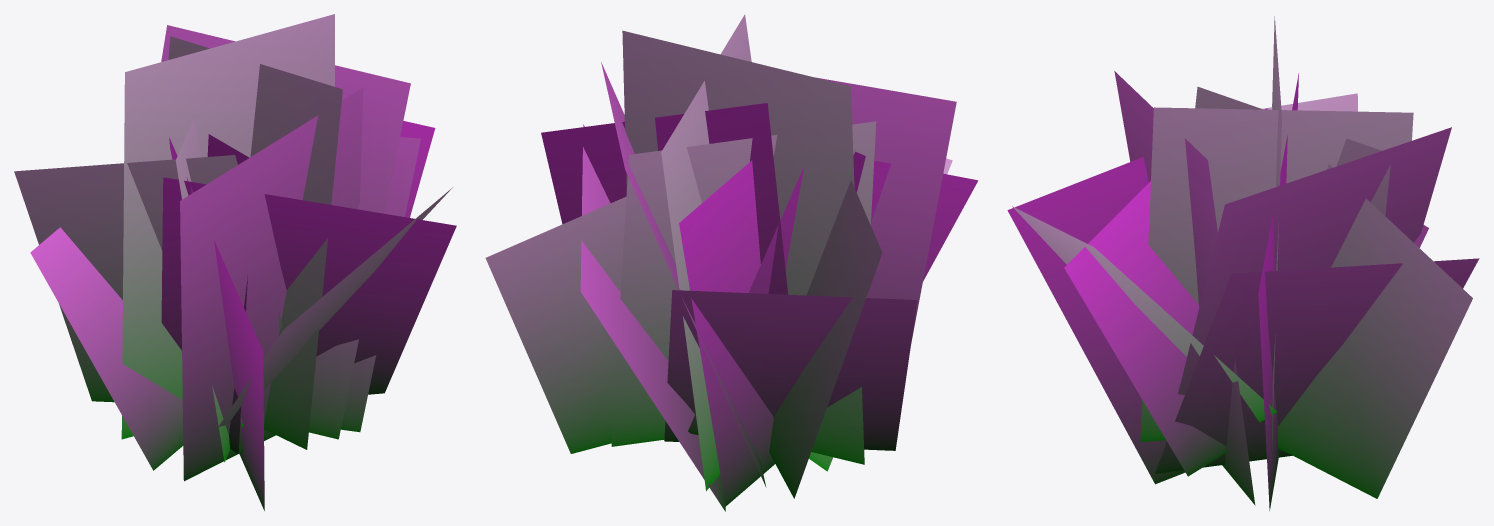
The model's file is reed_01_c.dae.
3 renders of one model, left to right at view 1: azimuth 30°, elevation 25°; view 2: azimuth 150°, elevation 25°; view 3: azimuth 270°, elevation 25°, orthographic. The views are drawn at different scales.
Parts seen in each view (by area): view 1: reed_sf8; view 2: reed_sf8; view 3: reed_sf8.
Boxes of the visible parts, x1,y1,x2,y2 form: reed_sf8: [14, 14, 456, 510]; reed_sf8: [485, 14, 978, 511]; reed_sf8: [1007, 16, 1479, 510].
Bounding box in the file's own units: 1.9 × 1.98 × 2.
